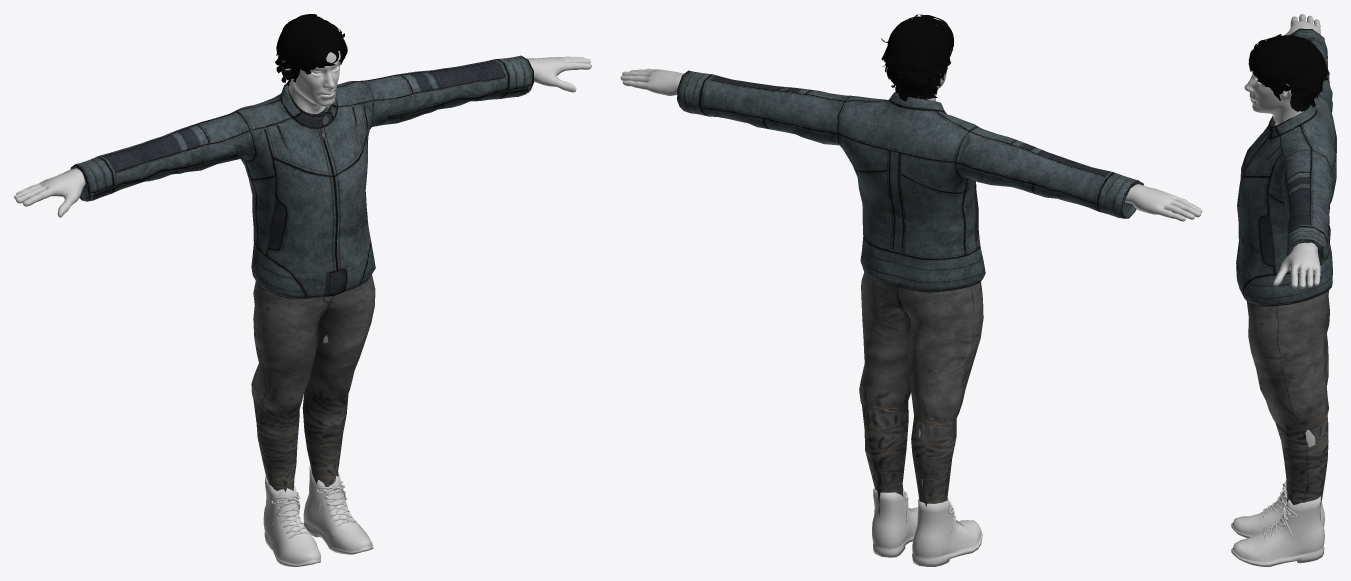
The model's file is fourteenth_clothes_hair.obj.
The picture shows the model from 3 angles, left to right: view 1: azimuth 30°, elevation 25°; view 2: azimuth 150°, elevation 25°; view 3: azimuth 270°, elevation 25°; orthographic projection. The views are drawn at different scales.
Parts seen in each view (by area): view 1: Tops, Bottoms, Shoes, Body, Hair; view 2: Tops, Bottoms, Shoes, Hair, Body; view 3: Tops, Bottoms, Shoes, Hair, Body.
Boxes of the visible parts, bbox=[...] form: Tops: bbox=[70, 55, 534, 298]; Bottoms: bbox=[251, 274, 375, 491]; Shoes: bbox=[263, 465, 373, 566]; Body: bbox=[14, 51, 591, 549]; Hair: bbox=[275, 14, 347, 86]; Tops: bbox=[677, 70, 1143, 292]; Bottoms: bbox=[859, 272, 983, 517]; Shoes: bbox=[872, 488, 982, 566]; Hair: bbox=[881, 14, 953, 101]; Body: bbox=[620, 25, 1202, 546]; Tops: bbox=[1236, 28, 1336, 306]; Bottoms: bbox=[1246, 290, 1329, 520]; Shoes: bbox=[1231, 481, 1324, 566]; Hair: bbox=[1248, 34, 1328, 111]; Body: bbox=[1244, 14, 1320, 556].
Bounding box in the file's own units: 21.36 × 18.73 × 3.52.
